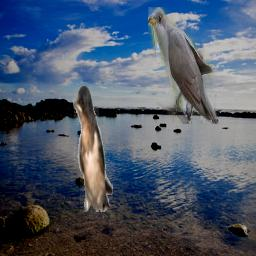Cuckoo: (148, 7, 219, 124)
Swallow: (73, 86, 113, 212)
